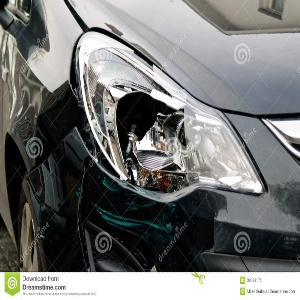head_lights: (71, 69, 246, 195)
